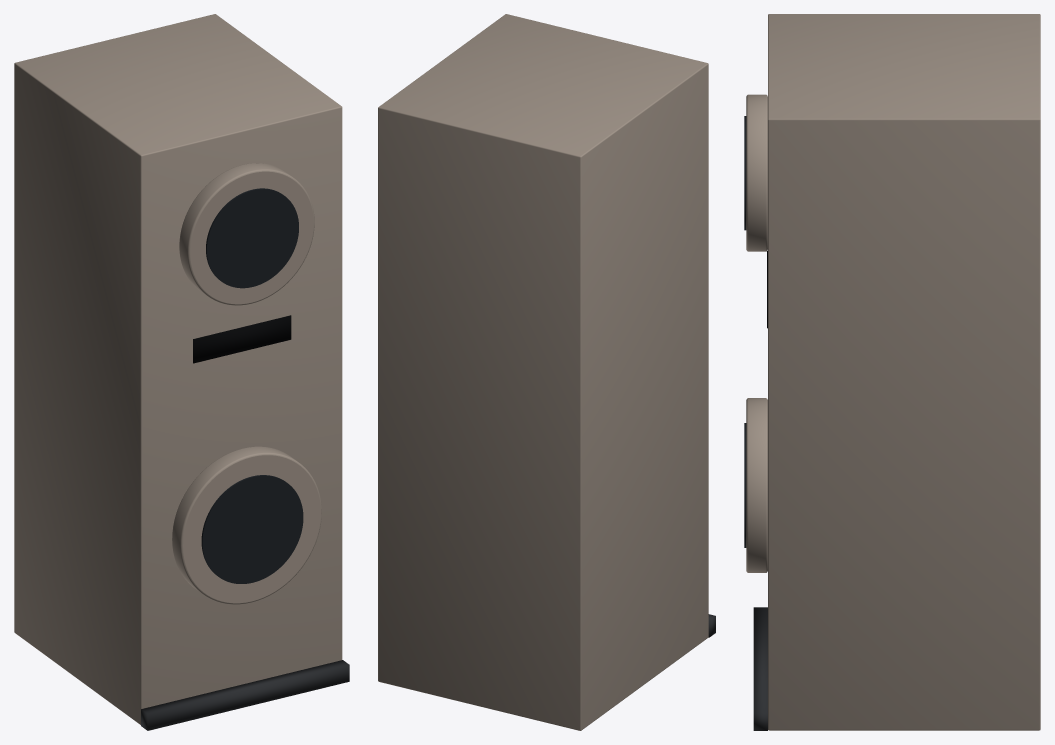
Rendered from WA2525TTP6R.glb.
The picture shows the model from 3 angles, left to right: view 1: azimuth 30°, elevation 25°; view 2: azimuth 150°, elevation 25°; view 3: azimuth 270°, elevation 25°; orthographic projection. The views are drawn at different scales.
Parts seen in each view (by area): view 1: WA2525TAP6Z; view 2: WA2525TAP6Z; view 3: WA2525TAP6Z.
Boxes of the visible parts, left/top/right/bottom form: WA2525TAP6Z: left=14, top=14, right=349, bottom=730; WA2525TAP6Z: left=378, top=14, right=715, bottom=730; WA2525TAP6Z: left=744, top=14, right=1040, bottom=730.
Bounding box in the file's own units: 0.7 × 1.89 × 0.83.
